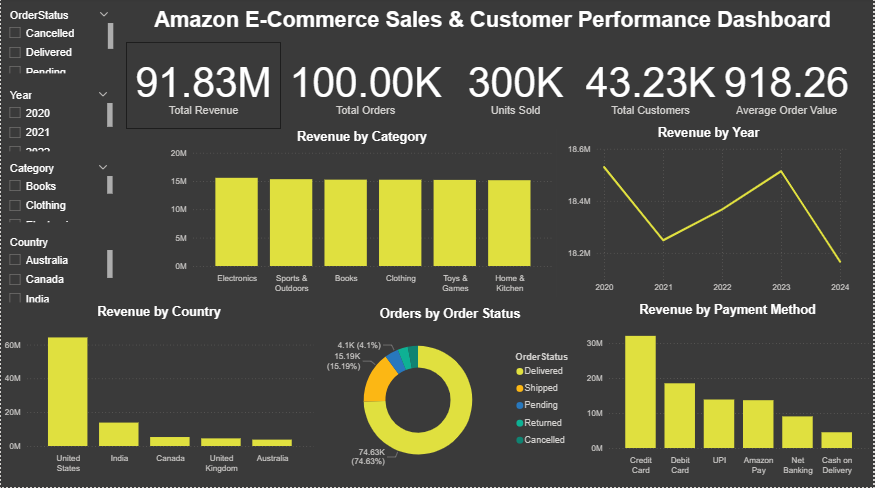

The dashboard page shown, as its layout file describes it:
{"tool":"powerbi","page":{"name":"Page 1","canvas":[1280,720],"ordinal":0},"visuals":[{"type":"card","fields":{"Values":["Sum(vw_AmazonSales.TotalAmount)"]},"box":[183.7,66.1,227.8,127.8],"z":0},{"type":"card","fields":{"Values":["CountNonNull(vw_AmazonSales.OrderID)"]},"box":[411.4,66.1,248.3,127.8],"z":1000},{"type":"card","fields":{"Values":["Sum(vw_AmazonSales.Quantity)"]},"box":[659.8,66.1,192.5,127.8],"z":2000},{"type":"card","fields":{"Values":["Count(vw_AmazonSales.CustomerID)"]},"box":[852.2,66.1,204.2,127.8],"z":3000},{"type":"card","fields":{"Values":["Avg(vw_AmazonSales.TotalAmount)"]},"box":[1056.5,66.1,195.4,127.8],"z":4000},{"type":"lineChart","title":"Revenue by Year","fields":{"Category":["vw_AmazonSales.Orderdate.Variation.Date Hierarchy.Year","vw_AmazonSales.Orderdate.Variation.Date Hierarchy.Quarter","vw_AmazonSales.Orderdate.Variation.Date Hierarchy.Month","vw_AmazonSales.Orderdate.Variation.Date Hierarchy.Day"],"Y":["Sum(vw_AmazonSales.TotalAmount)"]},"box":[827.3,188.1,424.7,254.2],"z":5000},{"type":"columnChart","title":"Revenue by Category","fields":{"Category":["vw_AmazonSales.Category"],"Y":["Sum(vw_AmazonSales.TotalAmount)"]},"box":[243.9,194,573.1,248.3],"z":6000},{"type":"clusteredColumnChart","title":"Revenue by Country","fields":{"Category":["vw_AmazonSales.Country"],"Y":["Sum(vw_AmazonSales.TotalAmount)"]},"box":[0,451.1,464.3,255.7],"z":7000},{"type":"donutChart","title":"Orders by Order Status","fields":{"Category":["vw_AmazonSales.OrderStatus"],"Y":["CountNonNull(vw_AmazonSales.OrderID)"]},"box":[464.3,454,390.9,255.7],"z":8000},{"type":"slicer","fields":{"Values":["vw_AmazonSales.Category"]},"box":[0,238,169,98.4],"z":9000},{"type":"slicer","fields":{"Values":["vw_AmazonSales.Country"]},"box":[0,346.8,169,107.3],"z":10000},{"type":"slicer","fields":{"Values":["vw_AmazonSales.Orderdate.Variation.Date Hierarchy.Year"]},"box":[0,130.8,169,101.4],"z":11000},{"type":"textbox","box":[218.9,10.3,1006.5,55.8],"z":12000},{"type":"clusteredColumnChart","title":"Revenue by Payment Method","fields":{"Category":["vw_AmazonSales.PaymentMethod"],"Y":["Sum(vw_AmazonSales.TotalAmount)"]},"box":[855.2,448.2,424.7,261.6],"z":13000},{"type":"slicer","fields":{"Values":["vw_AmazonSales.OrderStatus"]},"box":[0,13.2,170.4,104.3],"z":14000}]}

Visuals, with their boxes in screenshot pixels (x1, y1, x2, y2), scaled from the page's 1280x720 canvas onto the 875x488 screenshot:
card - Sum(vw_AmazonSales.TotalAmount): select_region(126, 45, 281, 131)
card - CountNonNull(vw_AmazonSales.OrderID): select_region(281, 45, 451, 131)
card - Sum(vw_AmazonSales.Quantity): select_region(451, 45, 583, 131)
card - Count(vw_AmazonSales.CustomerID): select_region(583, 45, 722, 131)
card - Avg(vw_AmazonSales.TotalAmount): select_region(722, 45, 856, 131)
"Revenue by Year" lineChart: select_region(566, 127, 856, 300)
"Revenue by Category" columnChart: select_region(167, 131, 558, 300)
"Revenue by Country" clusteredColumnChart: select_region(0, 306, 317, 479)
"Orders by Order Status" donutChart: select_region(317, 308, 585, 481)
slicer - vw_AmazonSales.Category: select_region(0, 161, 116, 228)
slicer - vw_AmazonSales.Country: select_region(0, 235, 116, 308)
slicer - vw_AmazonSales.Orderdate.Variation.Date Hierarchy.Year: select_region(0, 89, 116, 157)
textbox: select_region(150, 7, 838, 45)
"Revenue by Payment Method" clusteredColumnChart: select_region(585, 304, 874, 481)
slicer - vw_AmazonSales.OrderStatus: select_region(0, 9, 116, 80)
